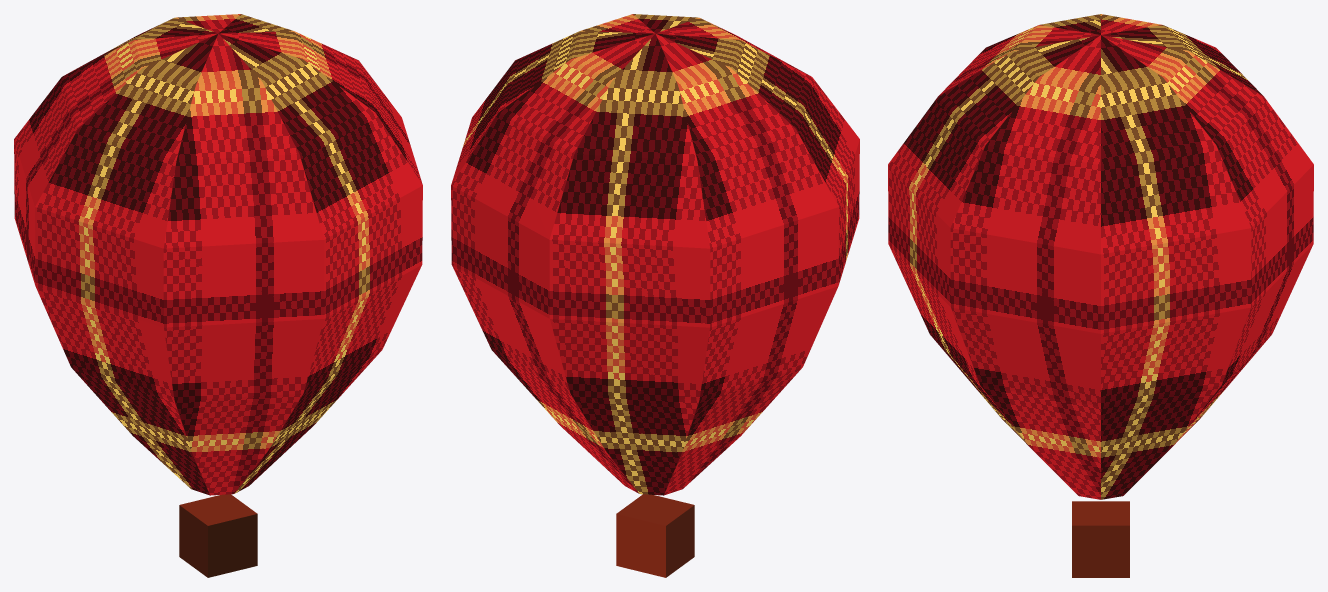
The model's file is special-139.glb.
3 renders of one model, left to right at view 1: azimuth 30°, elevation 25°; view 2: azimuth 150°, elevation 25°; view 3: azimuth 270°, elevation 25°, orthographic.
Parts seen in each view (by area): view 1: special-139; view 2: special-139; view 3: special-139.
Boxes of the visible parts, x1,y1,x2,y2 form: special-139: (14, 14, 422, 577); special-139: (451, 14, 859, 577); special-139: (888, 14, 1313, 577).
Size of the model in its own units: 0.8652 by 1.19 by 0.8652.
Materials: 7 (1 with a texture image).
